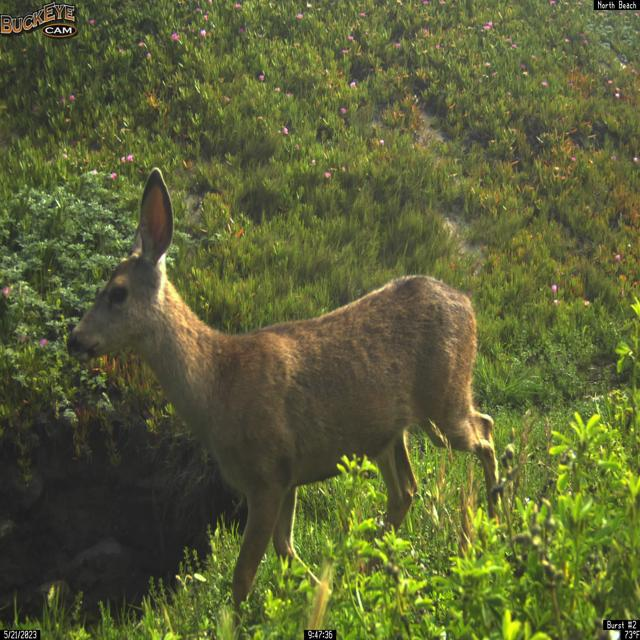deer: (65, 166, 498, 638)
